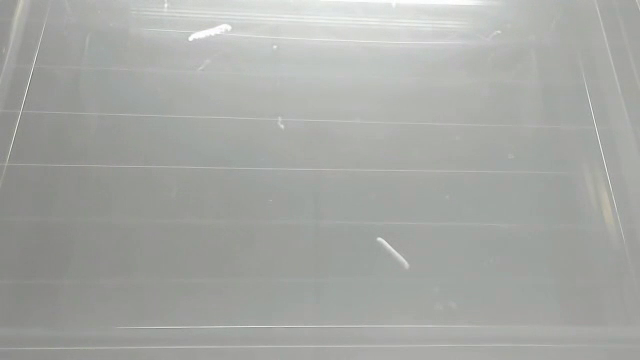alpha: (373, 233, 415, 275), (185, 21, 236, 44)
